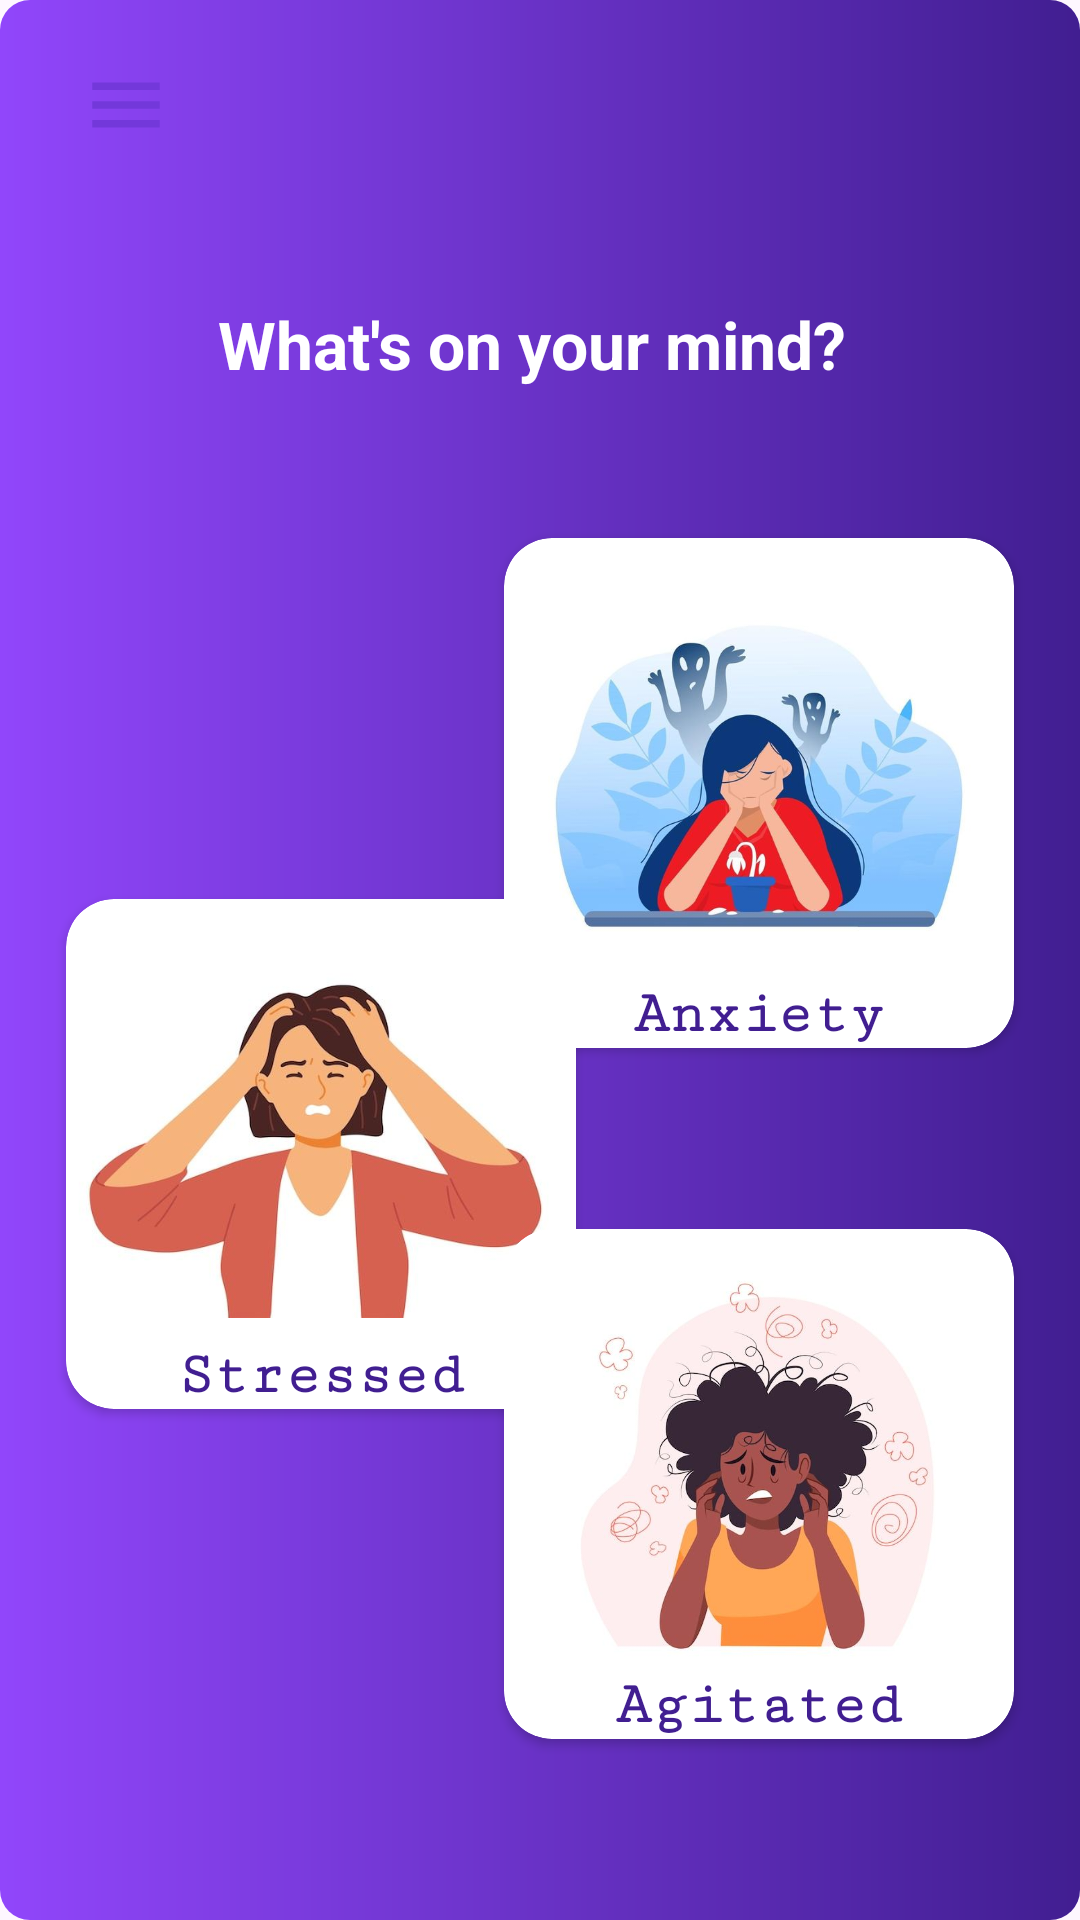

Where to tap for icons on this 1080*1920 app screen, as (x,y):
menu: (126,105)
